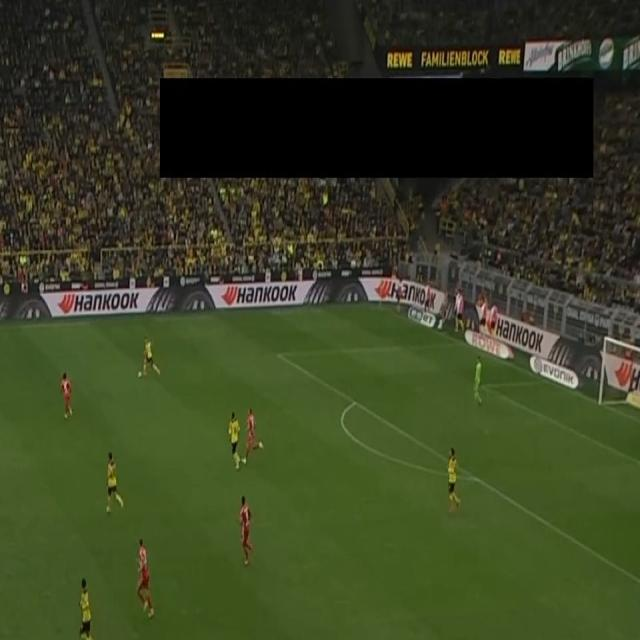ball: (137, 369, 142, 380)
